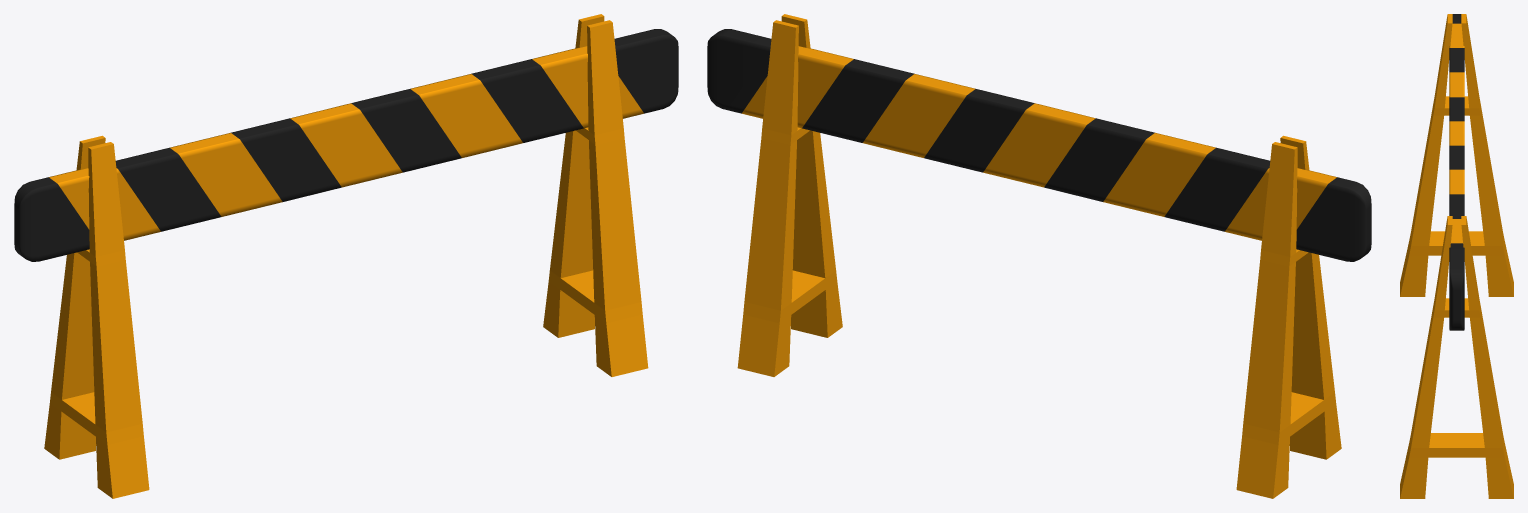
Rendered from Barrier_2.fbx.
3 views of the same model, side by side, from view 1: azimuth 30°, elevation 25°; view 2: azimuth 150°, elevation 25°; view 3: azimuth 270°, elevation 25° (orthographic). The views are drawn at different scales.
Visible parts, largest first — view 1: barrier_2; view 2: barrier_2; view 3: barrier_2.
Boxes of the visible parts, x1=… form: barrier_2: x1=14, y1=14, x2=678, y2=498; barrier_2: x1=707, y1=14, x2=1371, y2=498; barrier_2: x1=1400, y1=14, x2=1513, y2=498.
Bounding box in the file's own units: 23.63 × 11.19 × 4.26.
Materials: 1 (1 with a texture image).
